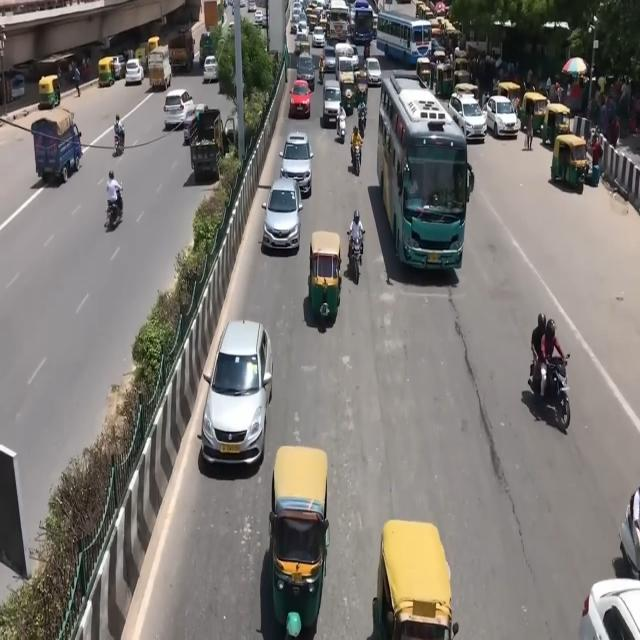auto: (268, 446, 329, 633), (373, 520, 456, 640), (32, 107, 82, 185), (307, 232, 342, 322), (550, 131, 588, 193), (543, 102, 573, 150), (521, 90, 548, 140), (338, 71, 358, 116), (38, 74, 61, 109), (498, 80, 522, 110), (435, 61, 454, 98), (453, 56, 471, 92), (98, 57, 116, 89), (453, 82, 479, 104), (416, 56, 433, 89)
bike-auto: (533, 317, 566, 402), (106, 170, 123, 224), (348, 210, 364, 254), (350, 125, 364, 173), (113, 114, 124, 154), (337, 104, 346, 140), (72, 63, 80, 96), (318, 55, 326, 84)
